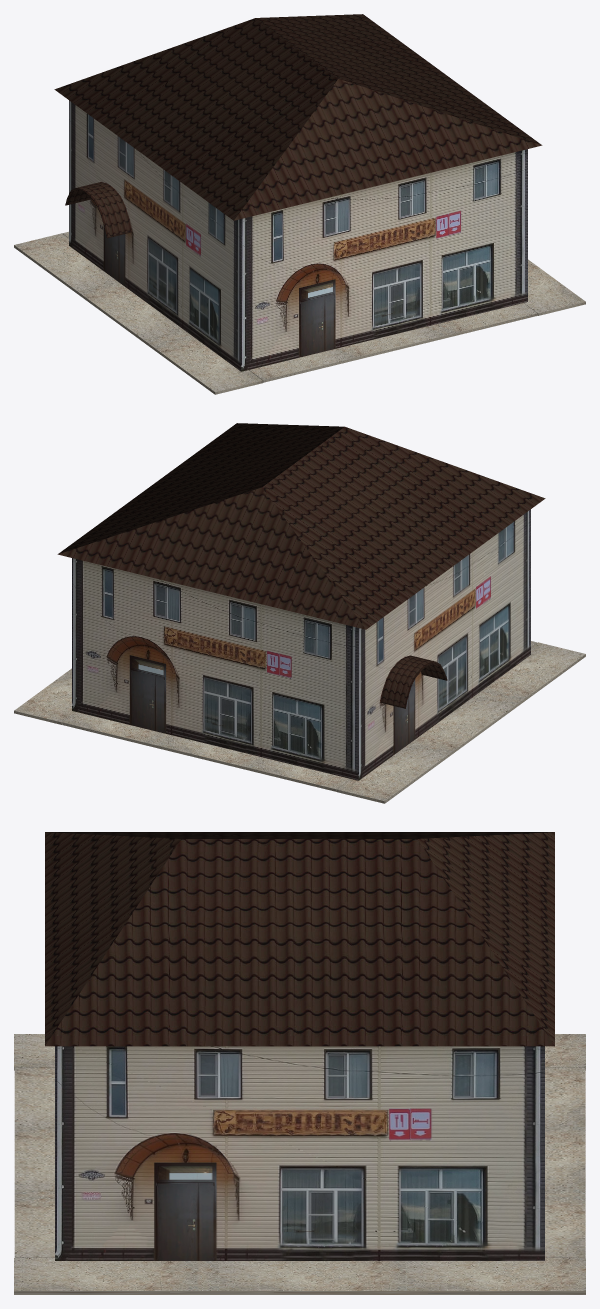
Rendered from r402_tukalinsk_kafe4.FBX.
3 views of the same model, one above another, from view 1: azimuth 30°, elevation 25°; view 2: azimuth 150°, elevation 25°; view 3: azimuth 270°, elevation 25° (orthographic). The views are drawn at different scales.
Parts seen in each view (by area): view 1: r402_tukalinsk_kafe4; view 2: r402_tukalinsk_kafe4; view 3: r402_tukalinsk_kafe4.
Part boxes in pixels (x1,y1,x2,y2): r402_tukalinsk_kafe4: (14, 14, 585, 394); r402_tukalinsk_kafe4: (14, 423, 585, 803); r402_tukalinsk_kafe4: (14, 832, 585, 1294).
Bounding box in the file's own units: 14.9 × 14 × 8.78.
